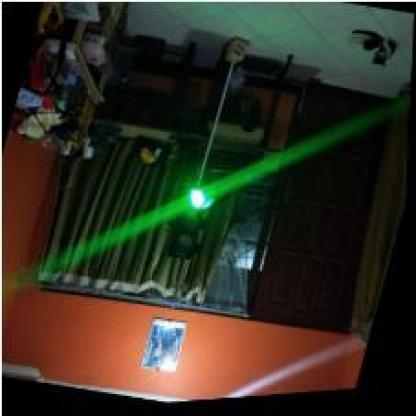green: (169, 186, 216, 265)
